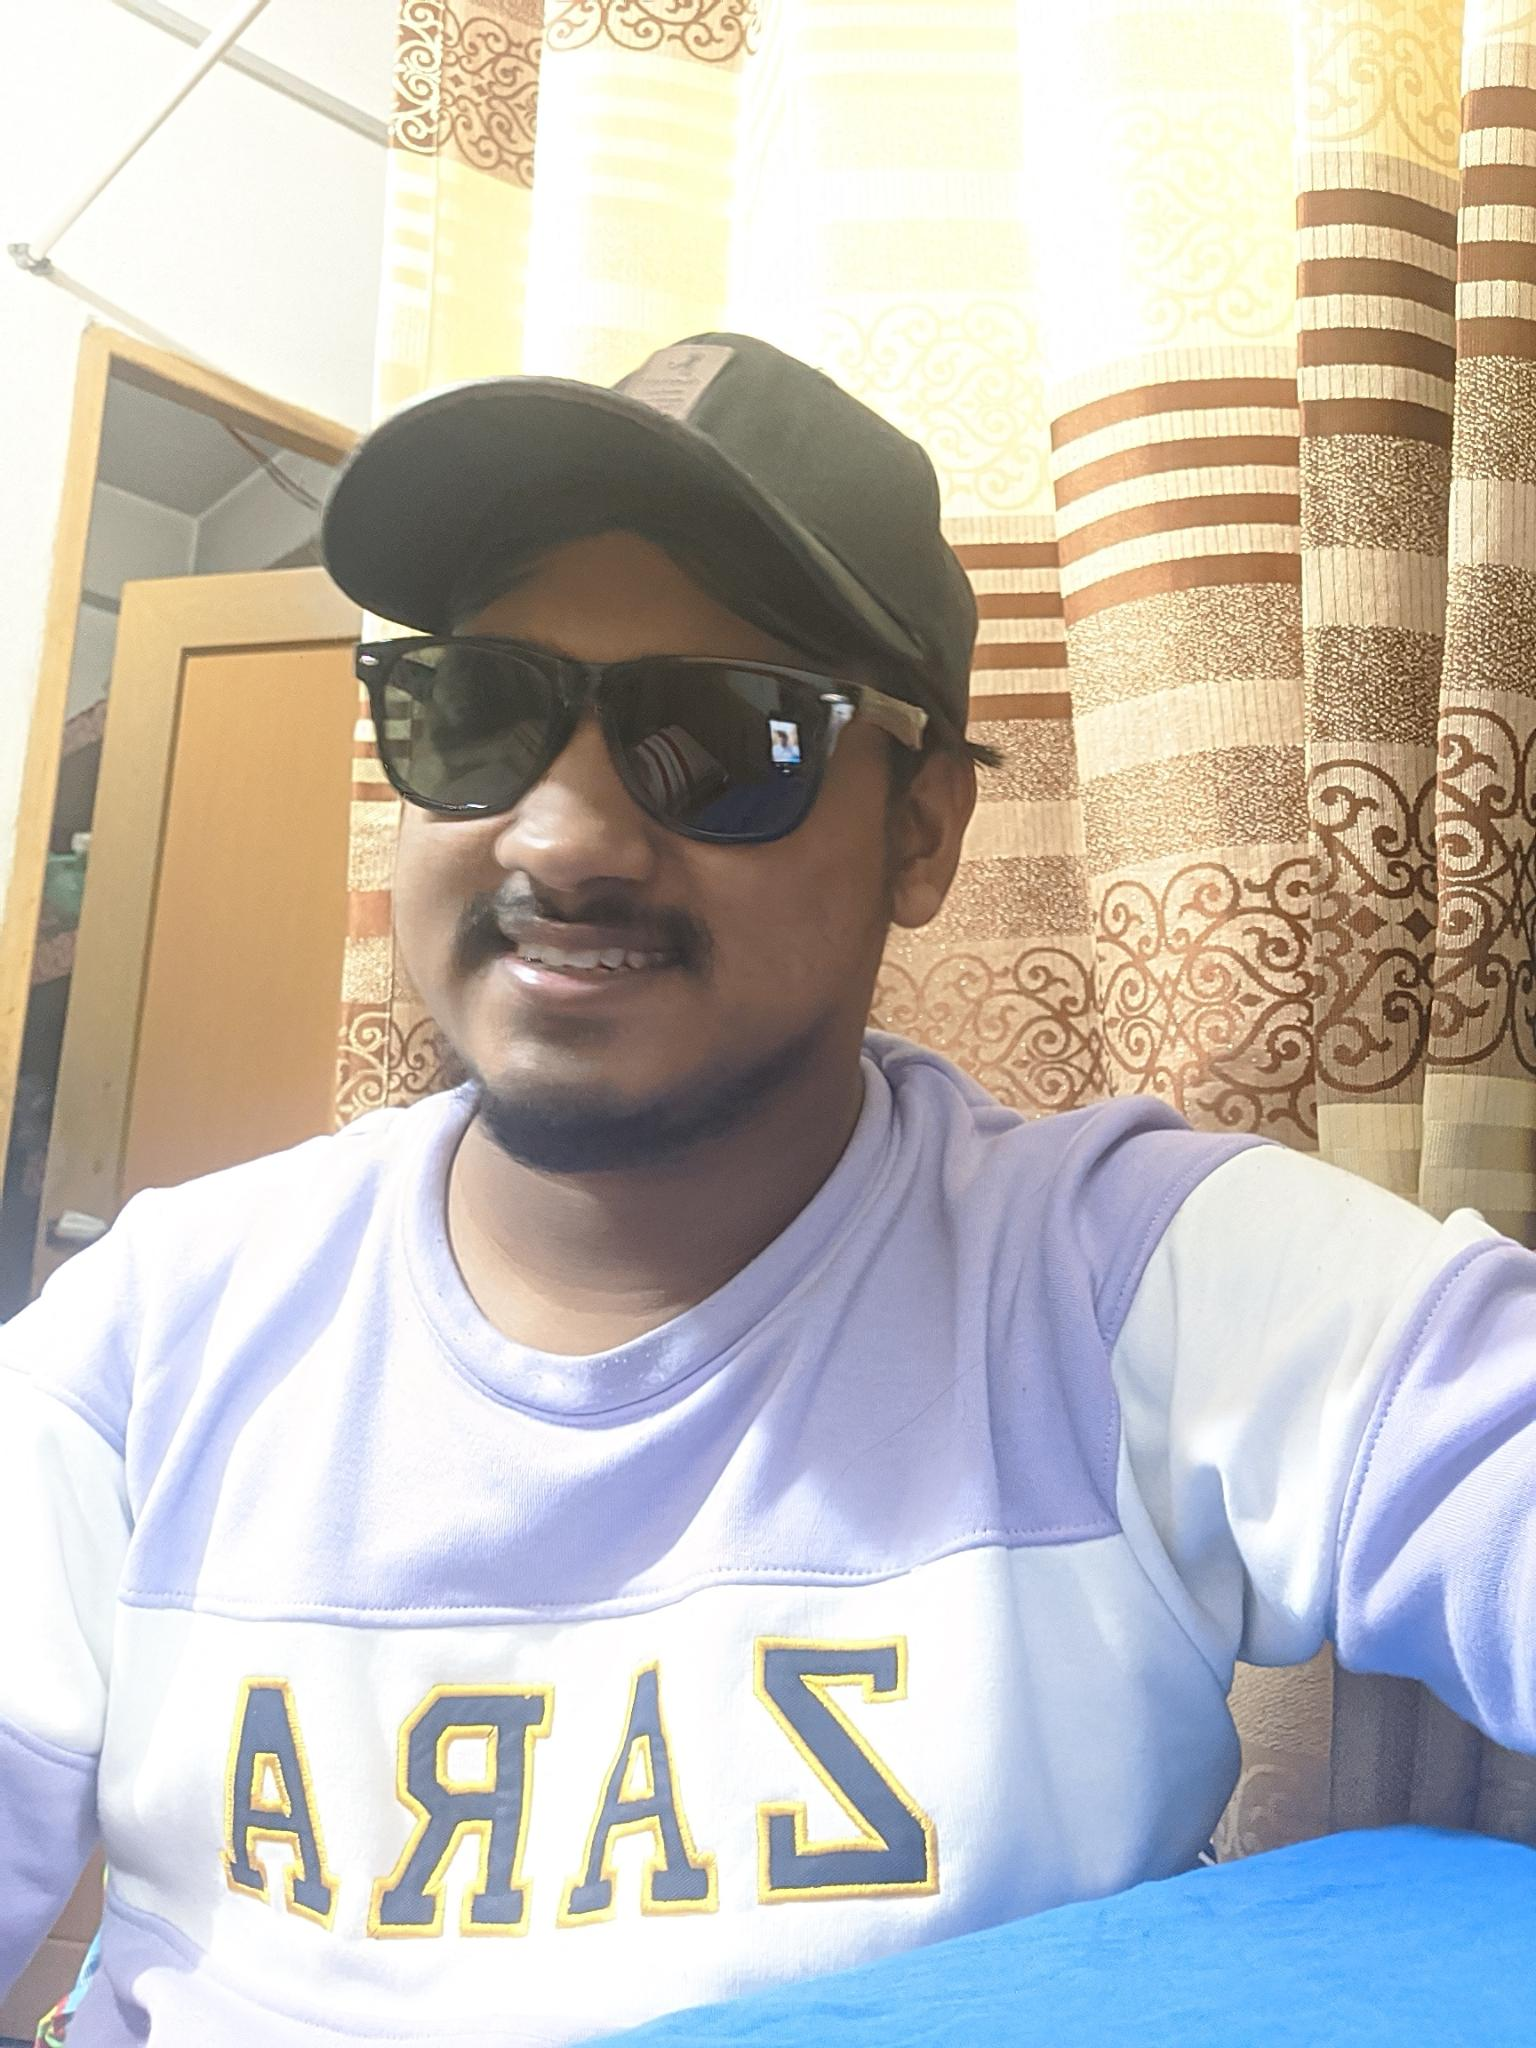Happy: (371, 597, 881, 1142)
